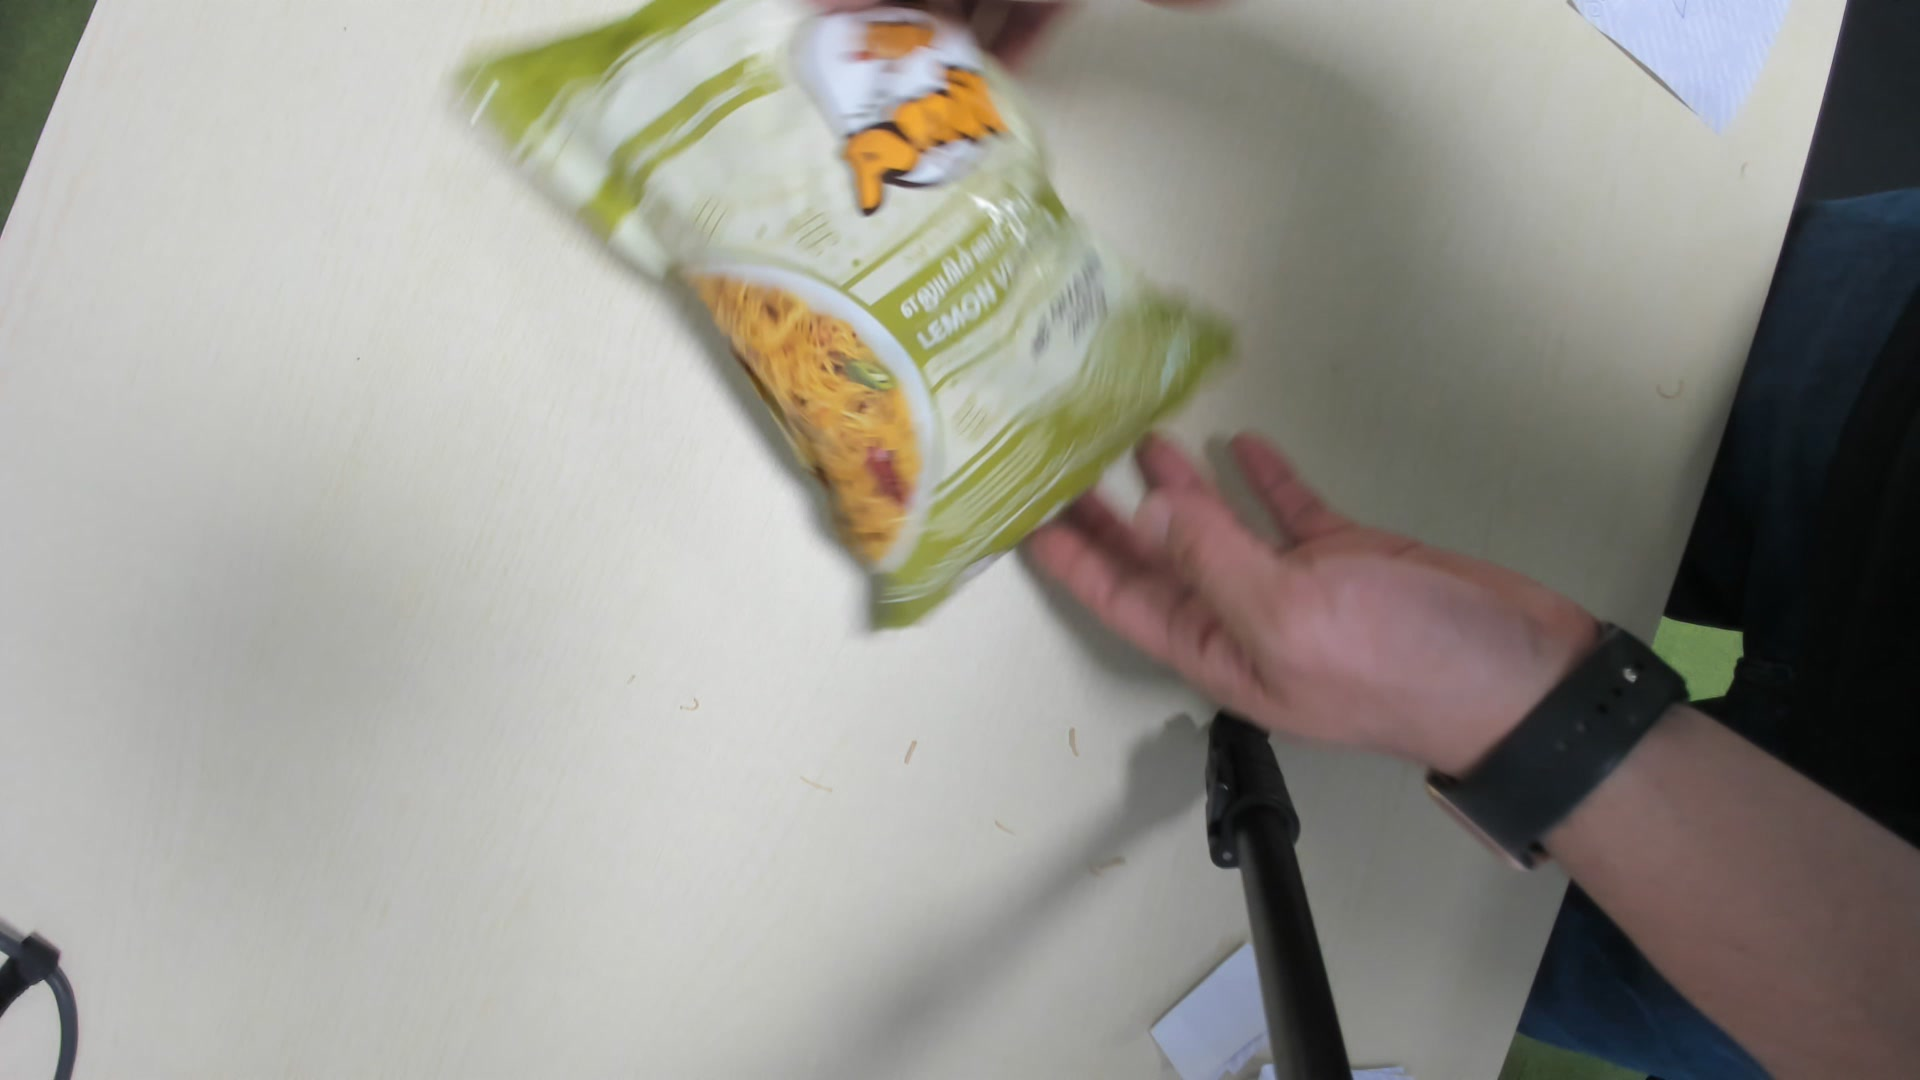BeeHoonVermicelli_200-299g_NonHalal_NonHealthy: (481, 3, 1236, 625)
